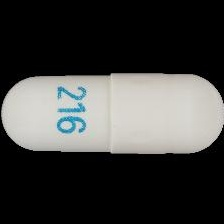55154-3580: (0, 0, 224, 224)
